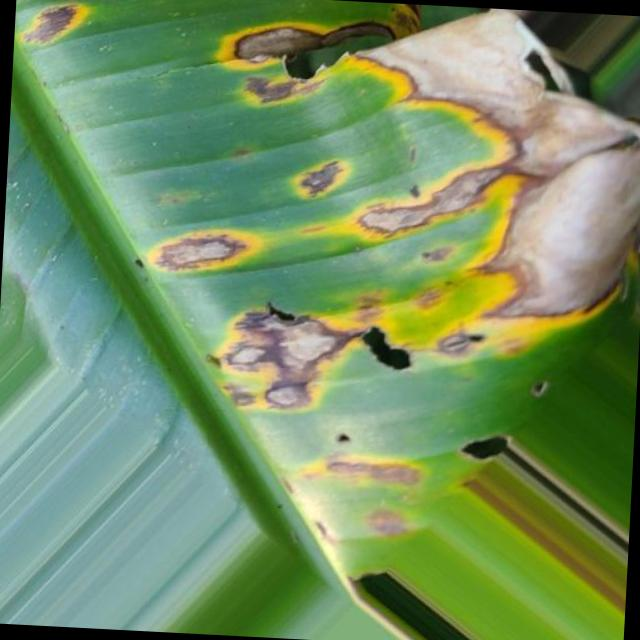Banana_Black_Sigatoka: (175, 7, 640, 543)
